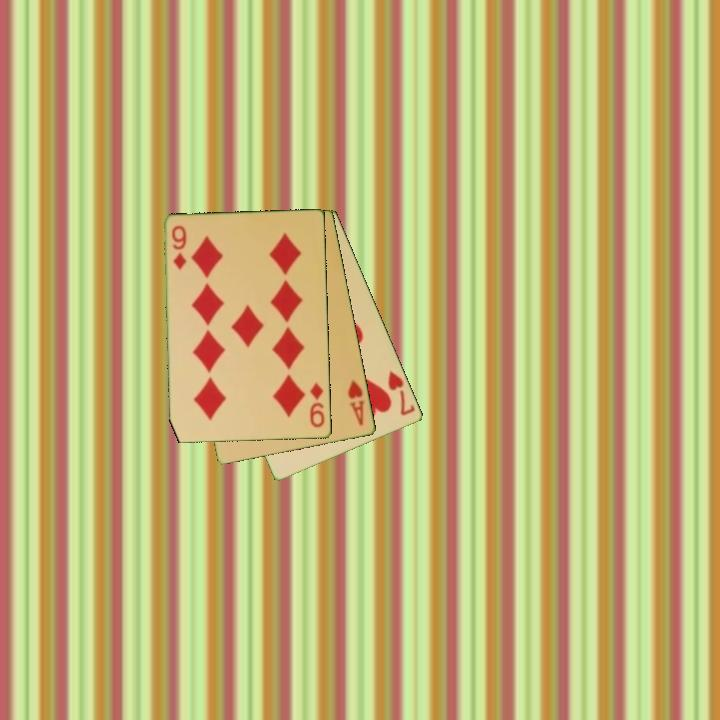7h: (385, 367, 418, 419)
9d: (306, 379, 328, 430), (168, 222, 190, 273)
Ah: (345, 376, 368, 429)
